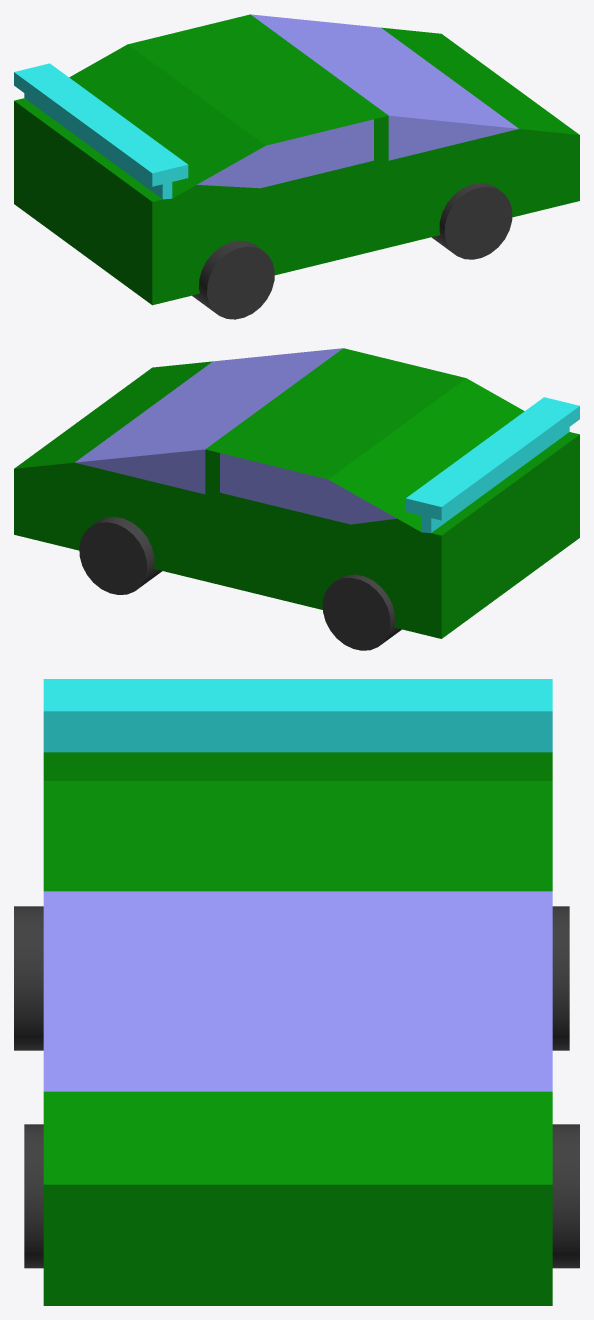
File: KyleDriver2021.fbx
The picture shows the model from 3 angles, top to bottom: view 1: azimuth 30°, elevation 25°; view 2: azimuth 150°, elevation 25°; view 3: azimuth 270°, elevation 25°; orthographic projection. The views are drawn at different scales.
Parts seen in each view (by area): view 1: KyleDriver2021_1; view 2: KyleDriver2021_1; view 3: KyleDriver2021_1.
Boxes of the visible parts, <box> form: KyleDriver2021_1: <box>14,14,579,319</box>; KyleDriver2021_1: <box>14,348,579,650</box>; KyleDriver2021_1: <box>14,679,579,1305</box>.
Bounding box in the file's own units: 332 × 118 × 207.
